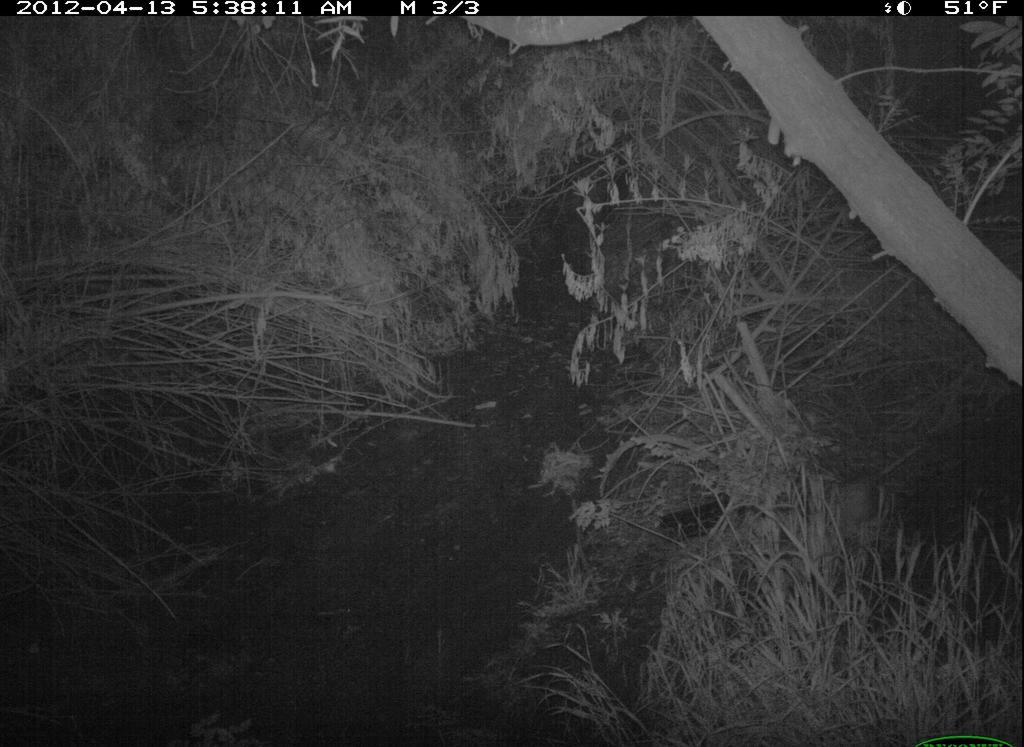opossum: (809, 439, 932, 548)
